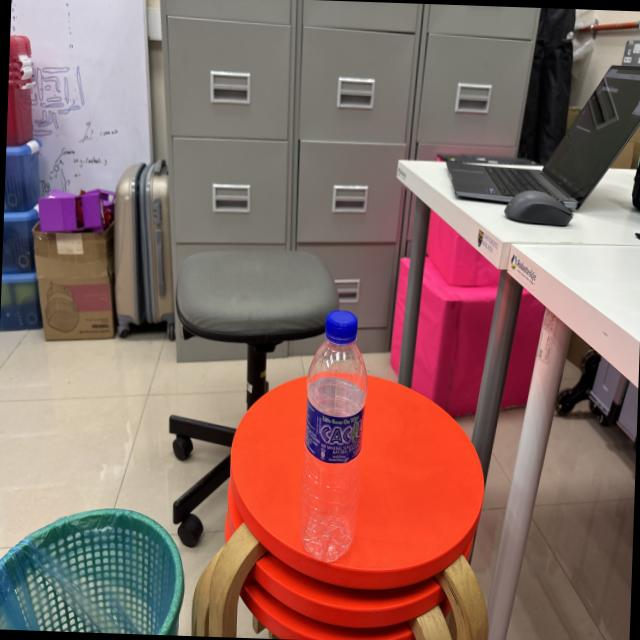plastic_bottle: (296, 305, 376, 571)
